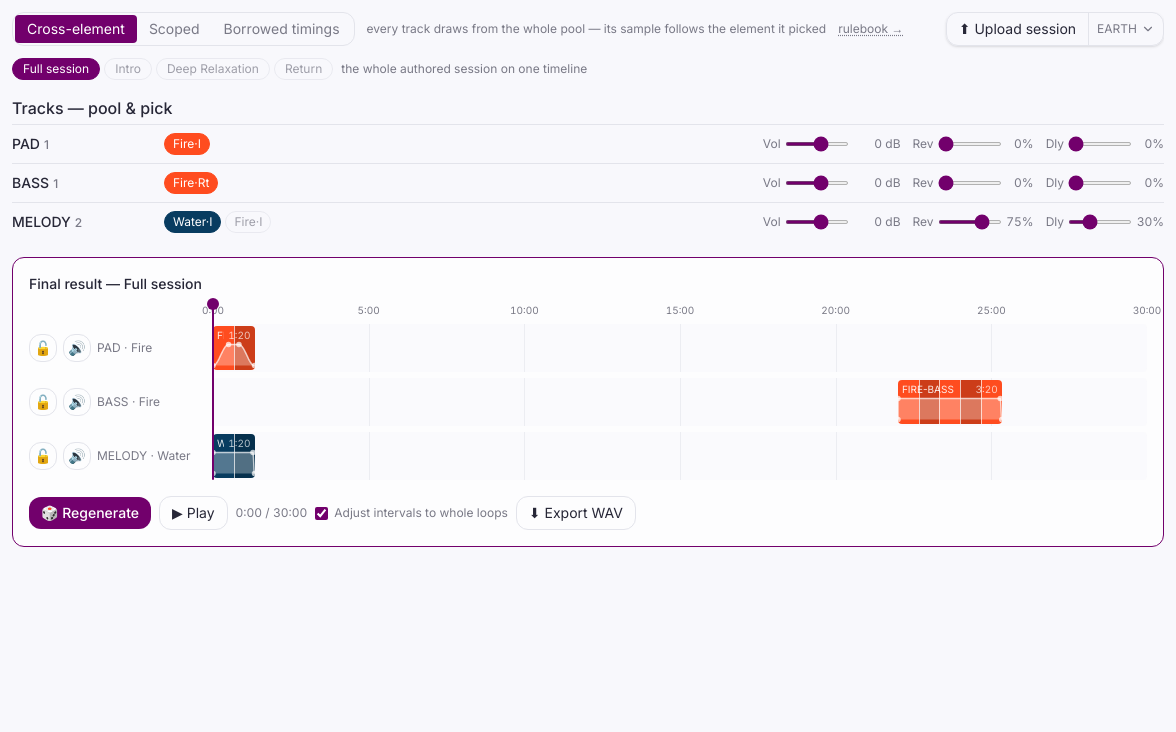
it: RemixView › carries the element it will file under on the control itself
What coordinates should you click on to do the following:
click the button with aria-label "upload as"
I would click on:
 (1126, 29)
Its box is [1088,13,1163,45].
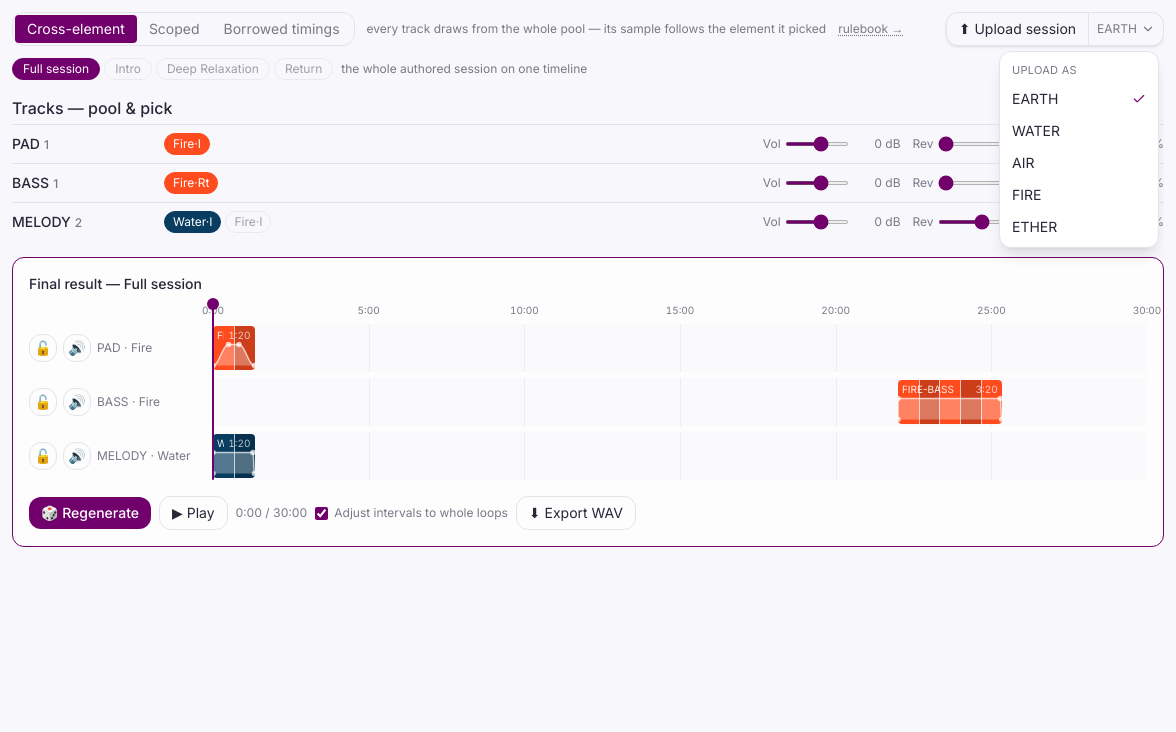
What coordinates should you click on to do the following:
click the menu item "ETHER"
I would click on:
 (1035, 226)
Its box is [1012,218,1057,234].
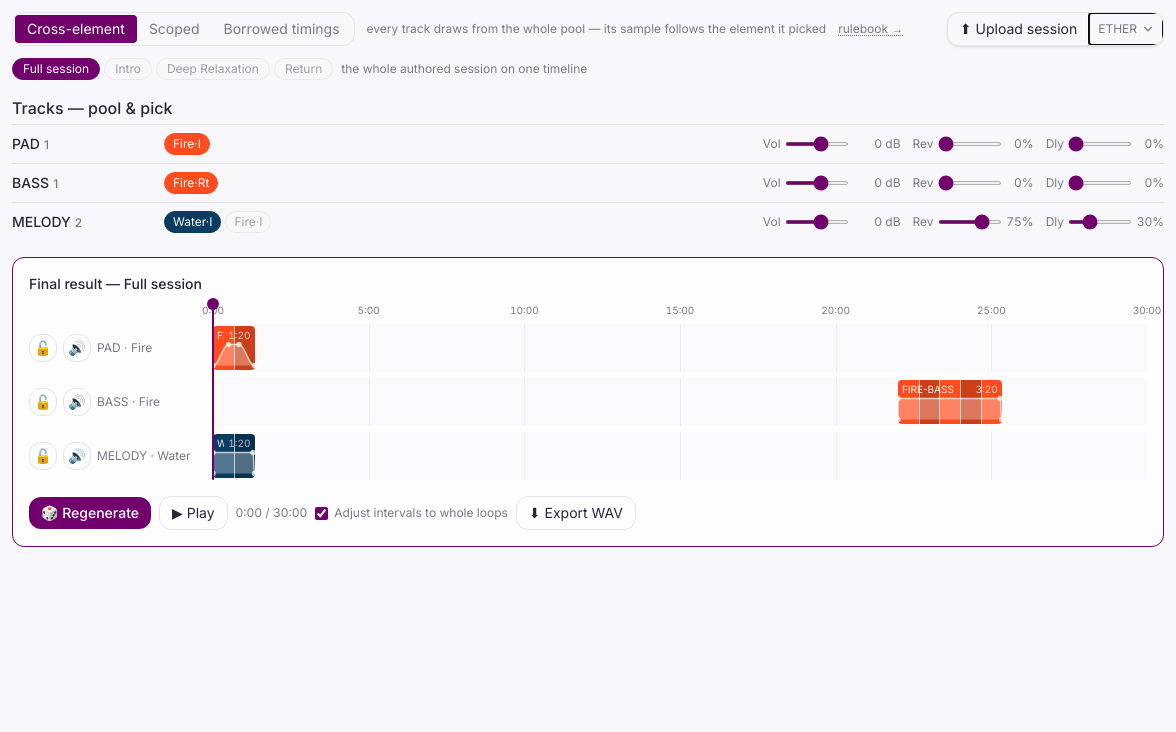
Expected: the button with aria-label "upload as ETHER" is shown, [1089,13,1163,45]
